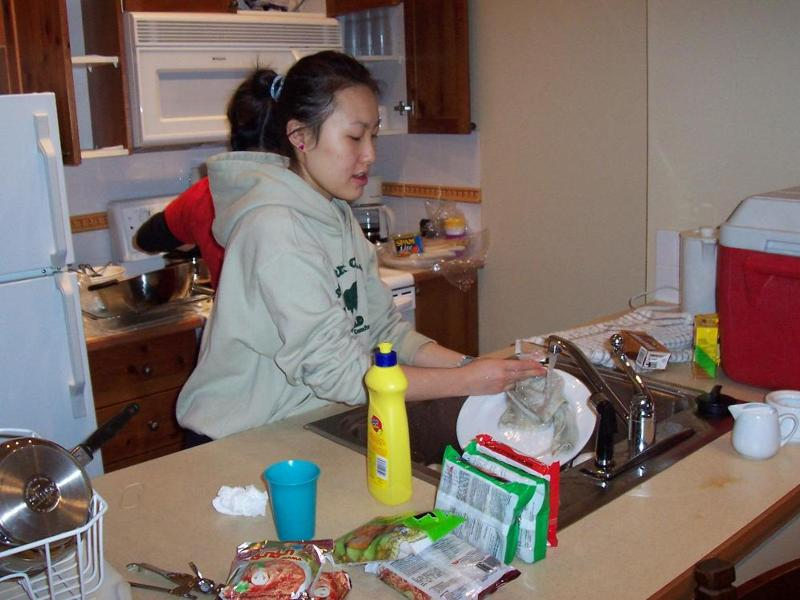person: (171, 51, 554, 451)
